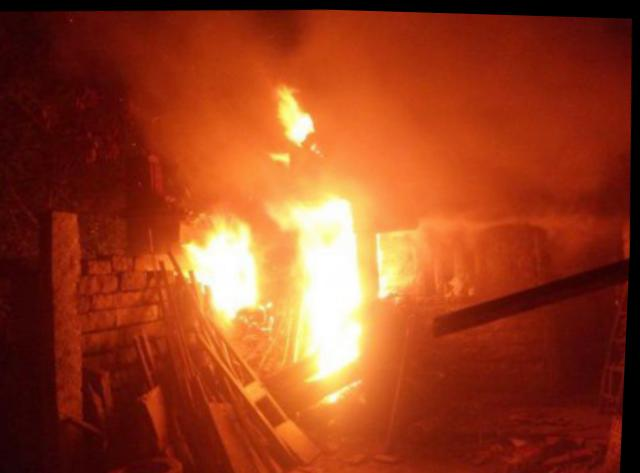fire: (284, 190, 374, 380), (184, 215, 263, 321), (374, 225, 420, 293), (275, 80, 318, 138)
